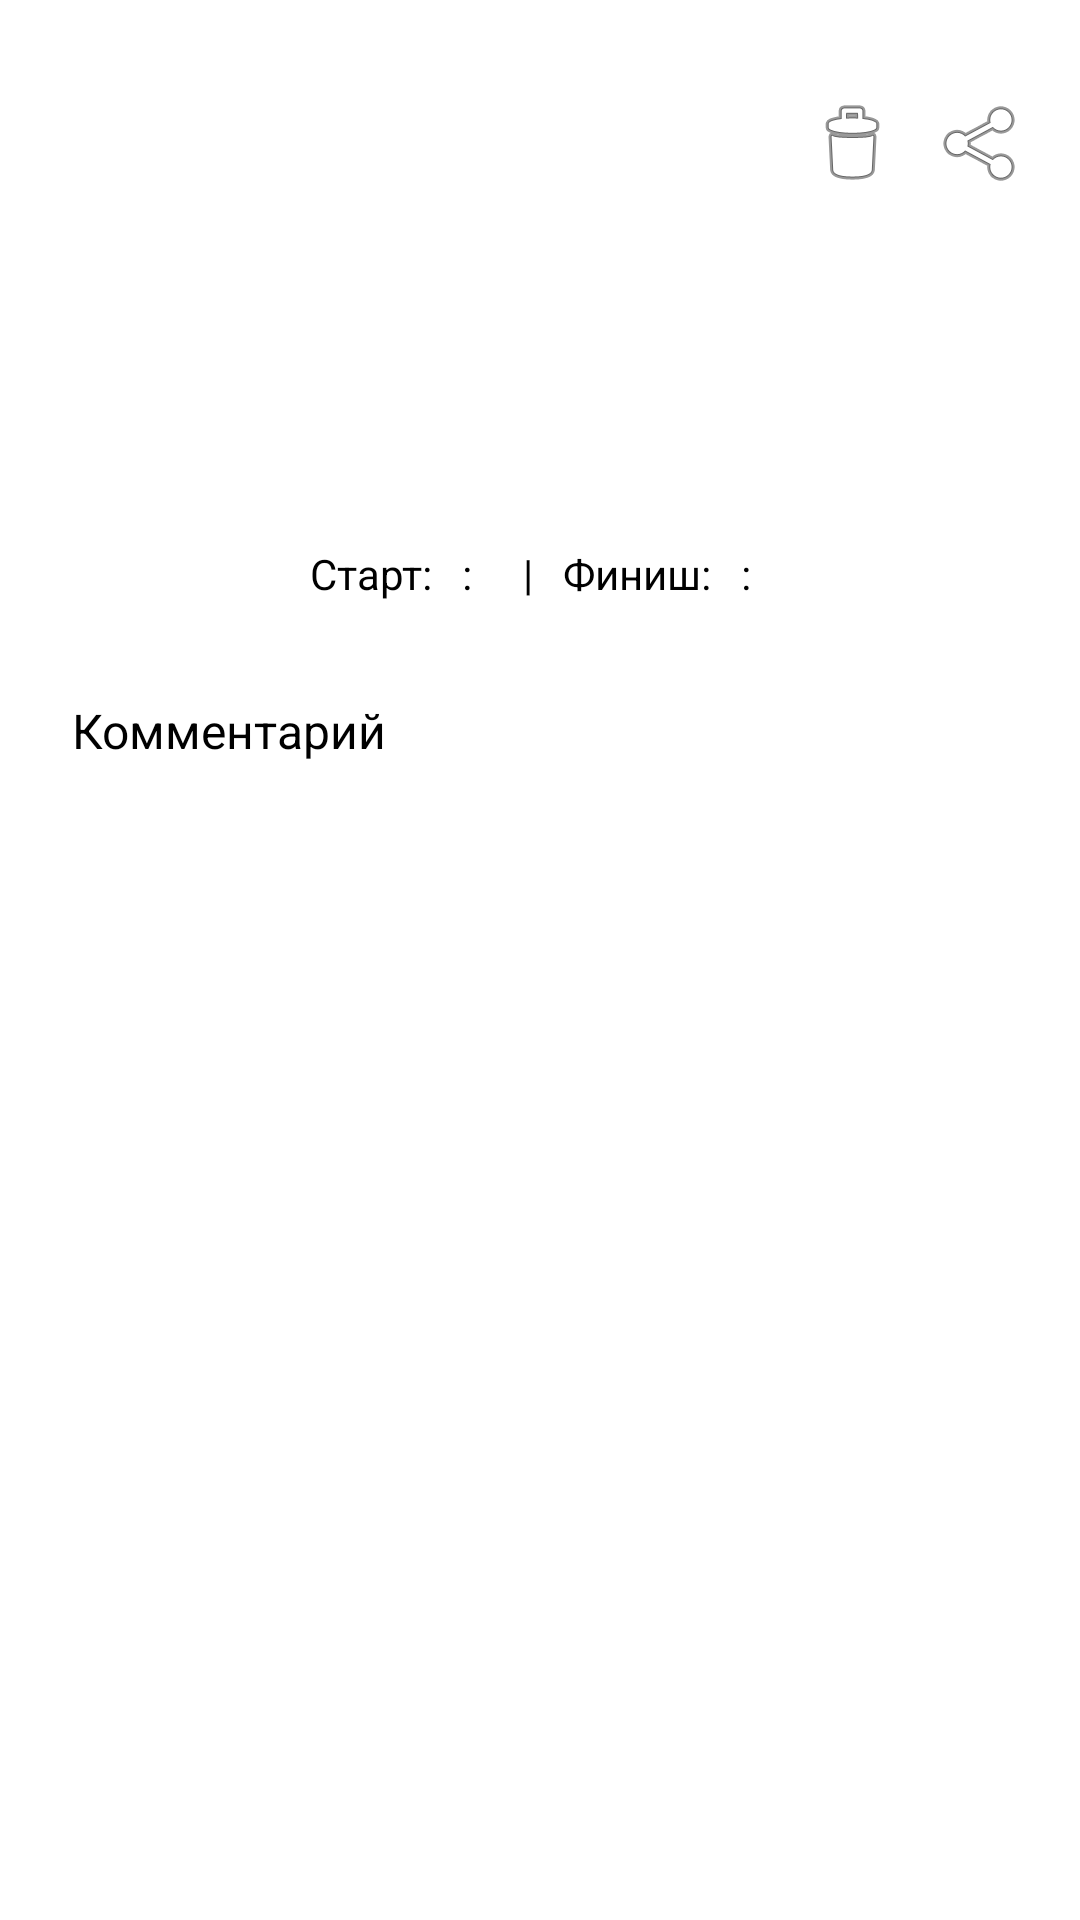

Screen size 1080×1920. Icon name, then its box in pixels as (left=x1, top=y1, right=x2, bottom=y2):
Поделиться: (left=943, top=106, right=1015, bottom=181)
Удалить: (left=825, top=105, right=880, bottom=180)
